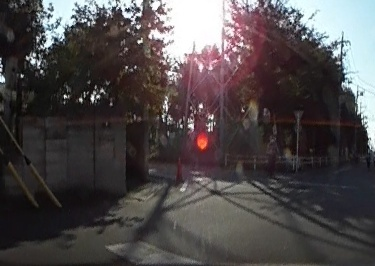person: (265, 133, 278, 177), (364, 151, 372, 172), (373, 150, 375, 171)
